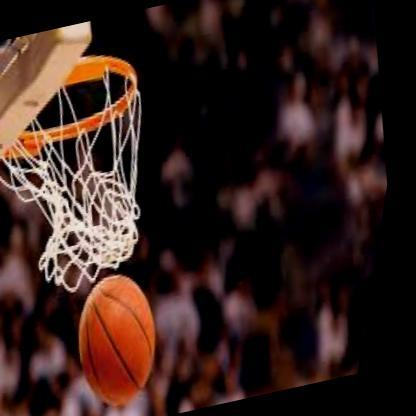basketball: (68, 269, 187, 410)
rim: (0, 44, 190, 302)
